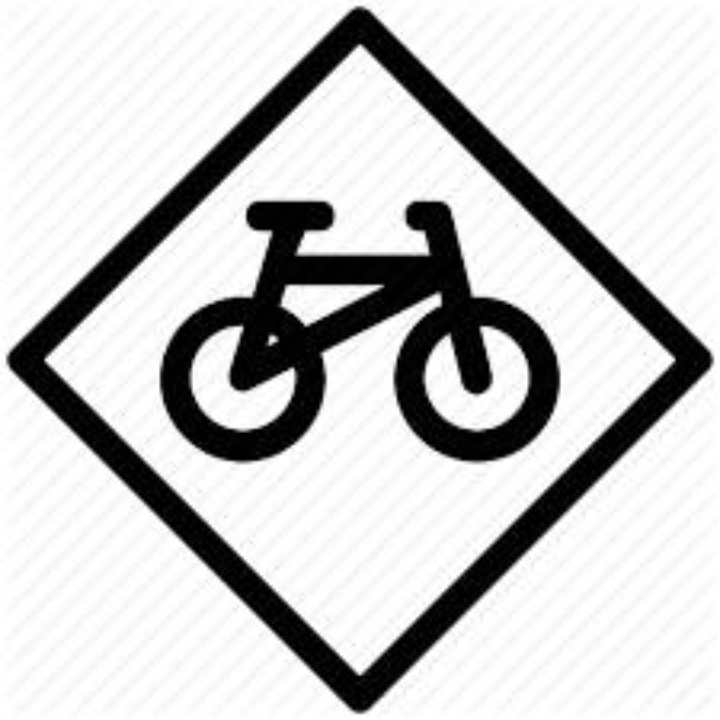bicycle: (149, 183, 576, 474)
